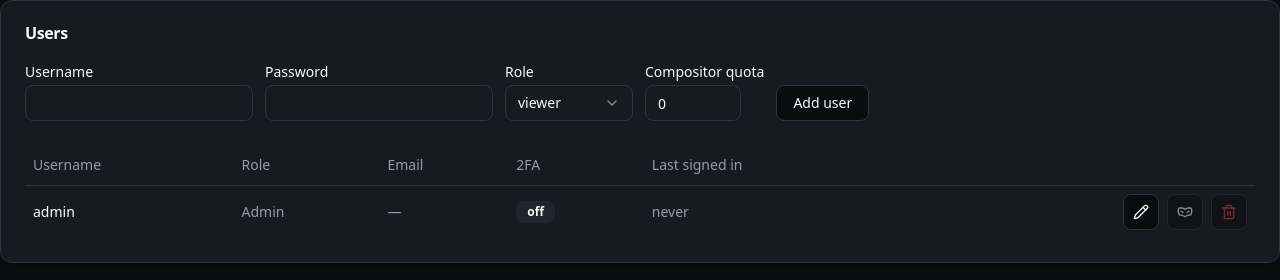
Test case: AdminUsersPage › hides the compositor quota field on the create form when the admin role is selected
This screenshot has width=1280, height=280.
Expected: the number field labelled "Compositor quota" is shown, [645,85,741,121]
Click the dropdown named "Role for the new user".
click(569, 103)  # box [505,85,633,121]
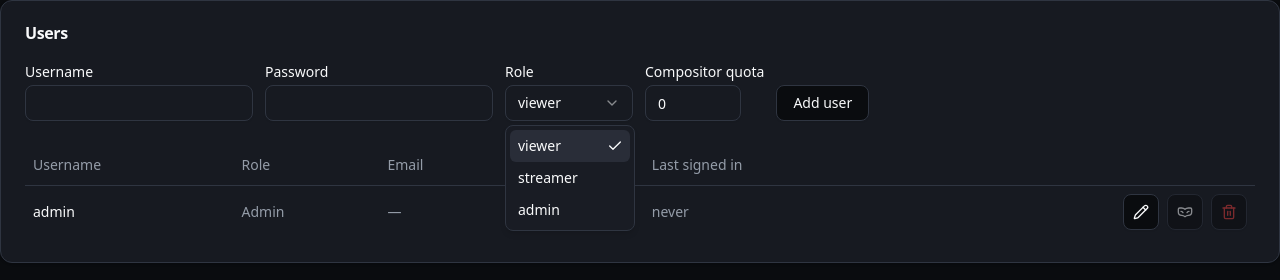
Click the option "admin".
click(539, 210)  # box [518,200,560,219]
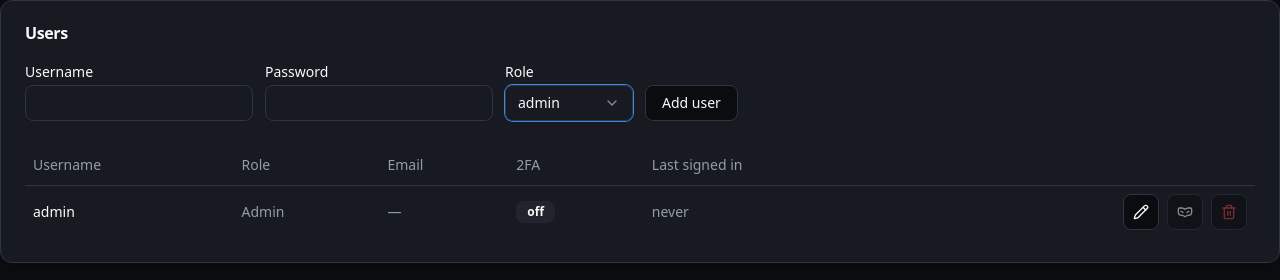
Expected: the label labelled "Compositor quota" is gone
